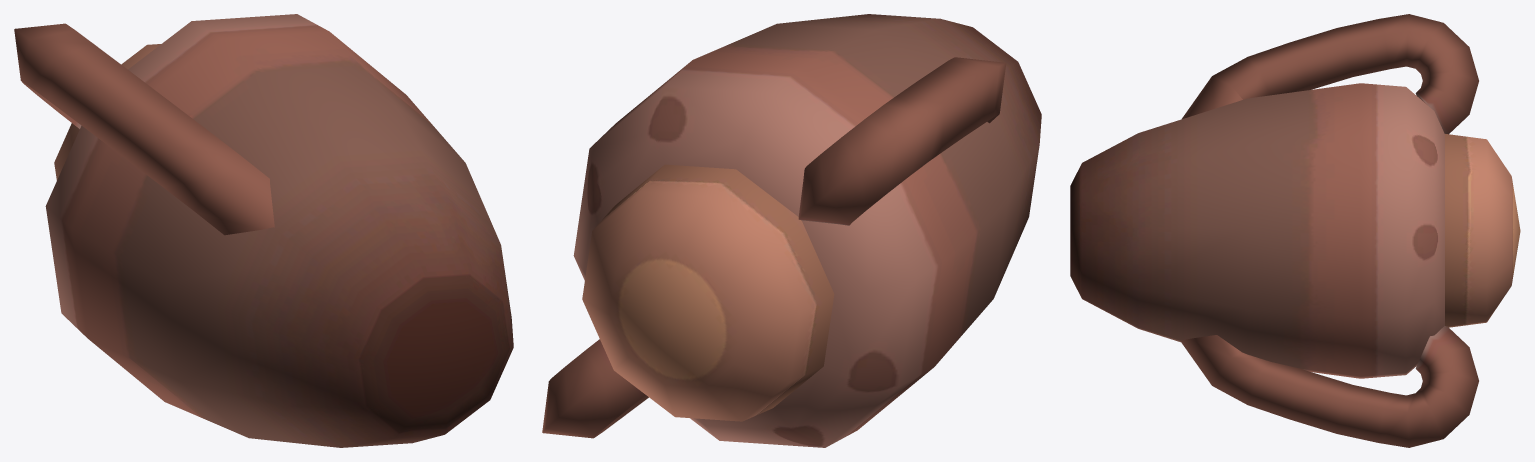
File: Pottery_04_Solid.fbx
3 views of the same model, side by side, from view 1: azimuth 30°, elevation 25°; view 2: azimuth 150°, elevation 25°; view 3: azimuth 270°, elevation 25° (orthographic). The views are drawn at different scales.
Visible parts, largest first — view 1: Pottery_04_Solid; view 2: Pottery_04_Solid; view 3: Pottery_04_Solid.
Part boxes in pixels (box(x1,y1,x2,y2)): Pottery_04_Solid: box(14, 14, 513, 447); Pottery_04_Solid: box(542, 14, 1041, 447); Pottery_04_Solid: box(1070, 14, 1520, 447).
Bounding box in the file's own units: 163 × 167 × 229.
1 material, 1 textured.
